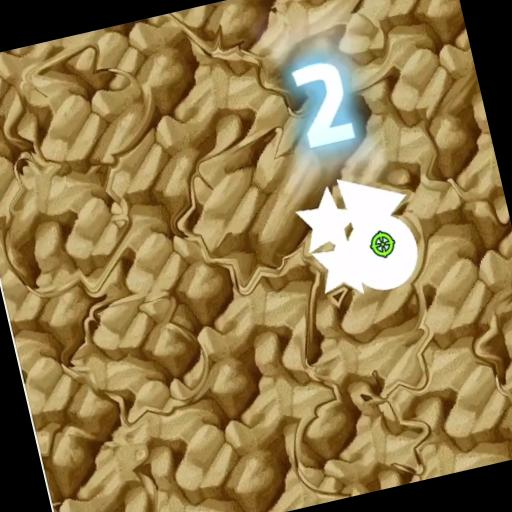Target: (43, 270, 223, 447), (260, 364, 444, 512), (0, 28, 166, 187), (0, 150, 157, 318), (283, 160, 441, 318)
